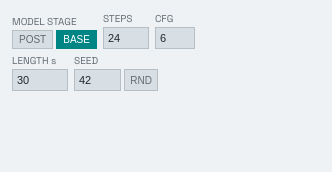
Scenario: ModelStageColumn (spec 4.5 item 2) › a failed rebuild shows the error and leaves the stage on the one actually loaded
The image size is (332, 172).
Click the button with test id "stage-post" at (33, 40), box [12,30,53,49]
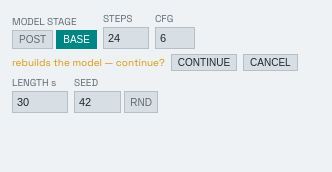
Click the button with test id "stage-confirm-continue" at (204, 62), box [171,54,237,71]
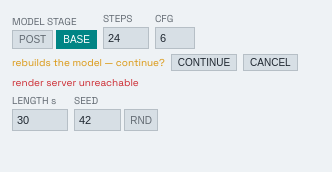
Expected: the button "BASE" is shown, [56,30,97,49]
Result: the text with test id "stage-error" reads "render server unreachable" at [12,76,139,89]
